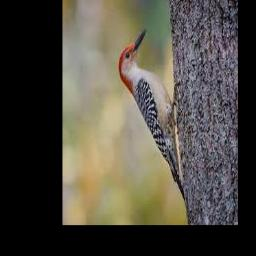Woodpecker: (118, 29, 186, 202)
